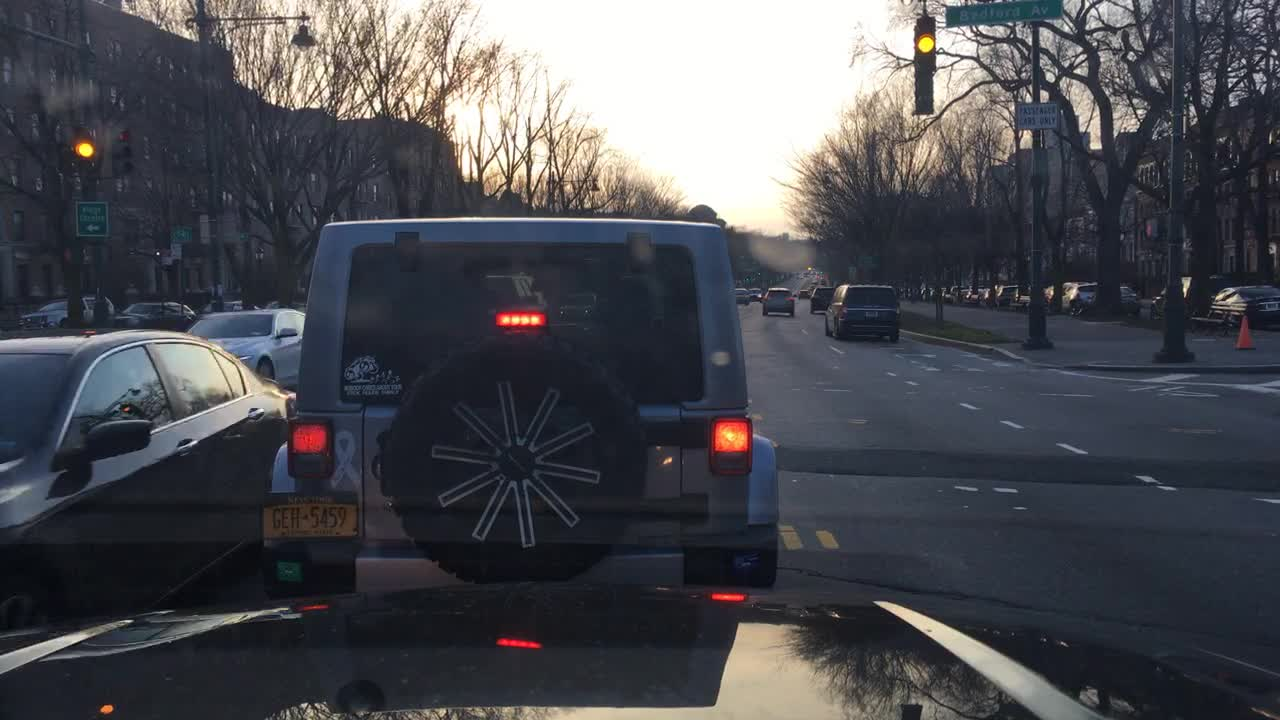car: (267, 209, 781, 606), (1, 326, 295, 630), (185, 308, 308, 389), (819, 283, 899, 343), (17, 291, 113, 329), (1149, 272, 1227, 316), (1206, 280, 1278, 325), (108, 299, 202, 333), (1069, 278, 1103, 314), (197, 296, 258, 316), (759, 286, 796, 318), (1041, 280, 1079, 310), (807, 285, 835, 314), (1115, 283, 1140, 315), (995, 281, 1020, 305), (262, 299, 303, 309), (957, 283, 976, 303), (976, 284, 993, 304), (736, 286, 751, 305), (1019, 286, 1031, 305), (748, 286, 763, 301), (939, 286, 953, 299), (920, 286, 935, 298), (799, 288, 811, 298)
traffic light: (108, 123, 136, 180), (74, 133, 99, 189), (915, 14, 937, 72), (912, 57, 933, 116)
traffic sign: (945, 2, 1059, 29), (72, 200, 109, 239), (1013, 102, 1058, 131), (172, 223, 195, 245), (168, 245, 185, 262)
